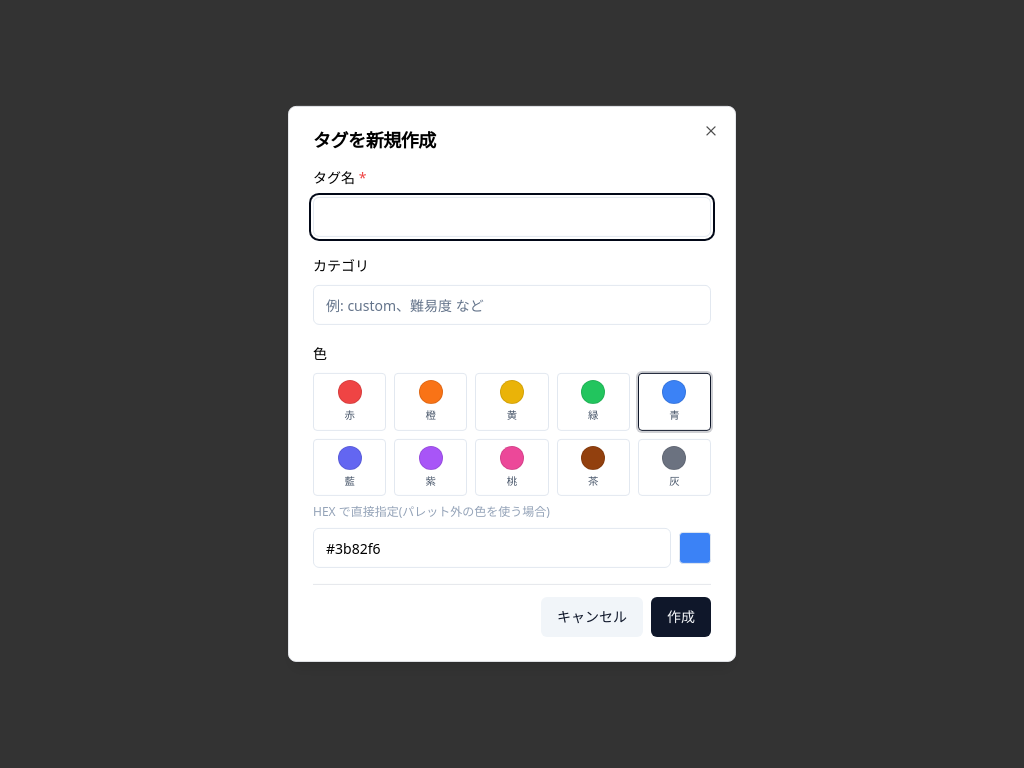
it: TagFormDialog › VAL-T02: タグ名が空のままサブミットするとエラーメッセージが表示される
Click the button "作成". click: (681, 617)
box: [651,597,711,637]
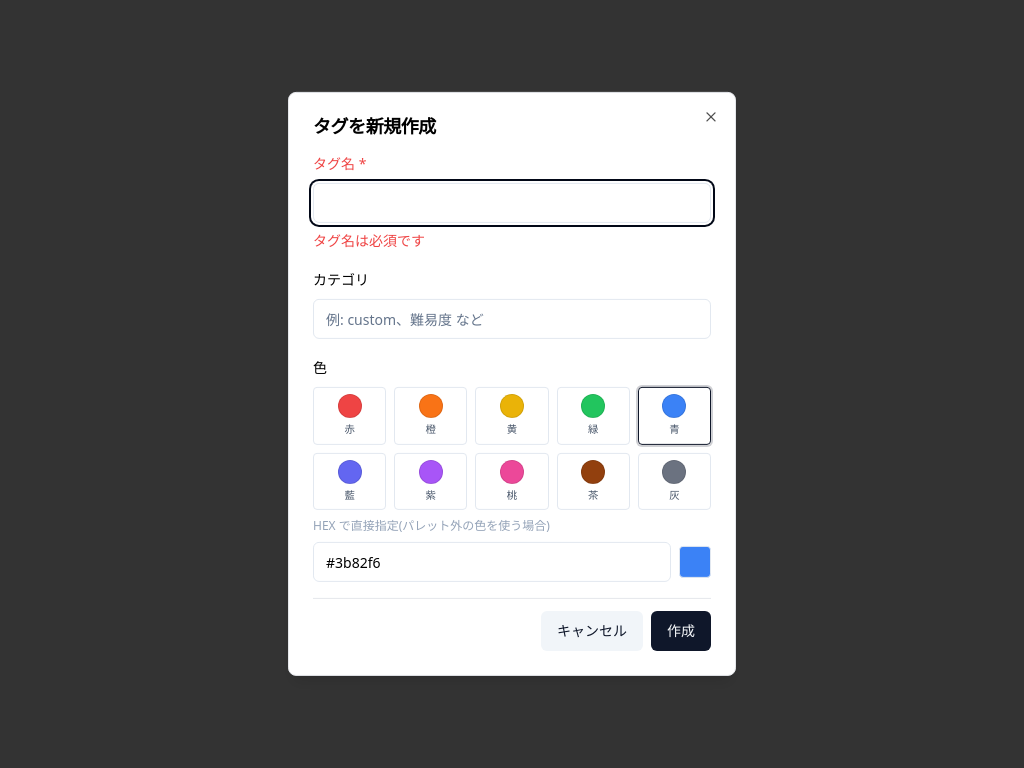
Now the text "タグ名は必須です" is shown, box [313,231,425,250]
